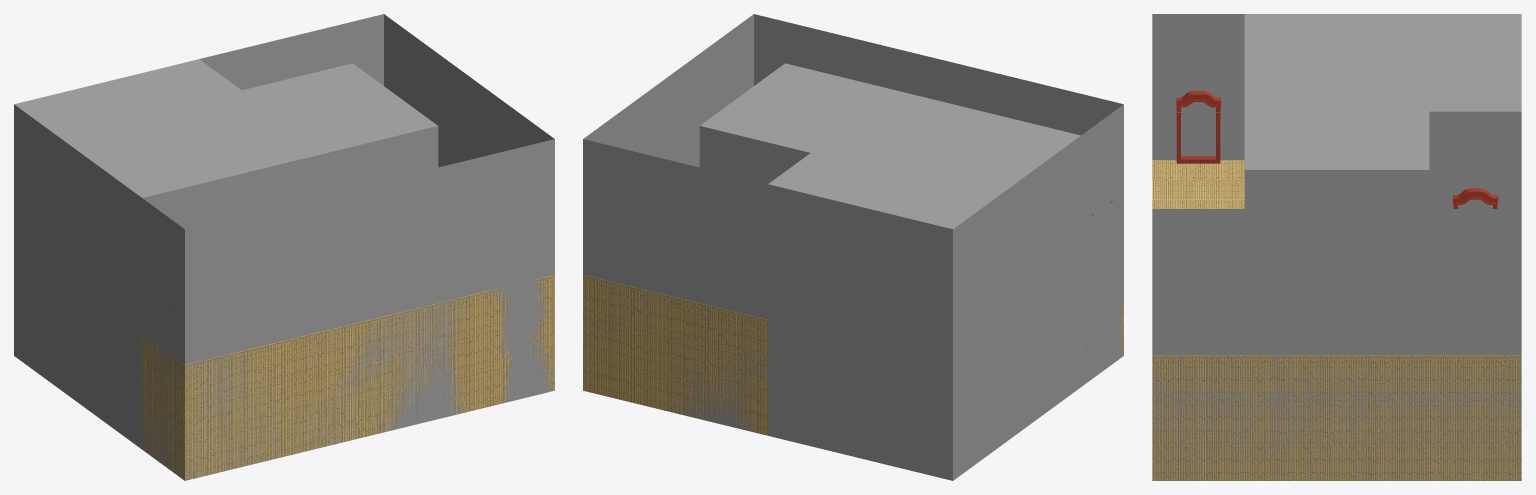
The model's file is Floor_1.5_02.fbx.
The picture shows the model from 3 angles, left to right: view 1: azimuth 30°, elevation 25°; view 2: azimuth 150°, elevation 25°; view 3: azimuth 270°, elevation 25°; orthographic projection. The views are drawn at different scales.
Visible parts, largest first — view 1: pCube12, Wall_03, Wall_02, polySurface92, polySurface90, polySurface91, polySurface98, polySurface95, polySurface96, polySurface88, polySurface97, polySurface94 (+22 smaller); view 2: pCube12, Wall_02, Wall_03, polySurface192, polySurface193, polySurface195, polySurface251, polySurface260, polySurface191, polySurface196, Platform_02, polySurface261 (+6 smaller); view 3: pCube12, Wall_03, Wall_02, polySurface200, polySurface191, polySurface182, polySurface218, polySurface220, polySurface209, polySurface245, polySurface219, polySurface192 (+23 smaller).
Boxes of the visible parts, <box> form: pCube12: <box>14,14,554,480</box>; Wall_03: <box>56,63,438,448</box>; Wall_02: <box>14,59,241,385</box>; polySurface92: <box>163,388,221,441</box>; polySurface90: <box>163,349,221,403</box>; polySurface91: <box>163,427,221,480</box>; polySurface98: <box>259,376,295,423</box>; polySurface95: <box>296,329,332,376</box>; polySurface96: <box>259,338,295,385</box>; polySurface88: <box>222,385,258,432</box>; polySurface97: <box>259,415,295,462</box>; polySurface94: <box>296,367,332,414</box>; pCube12: <box>583,14,1123,480</box>; Wall_02: <box>768,153,995,480</box>; Wall_03: <box>699,63,1081,448</box>; polySurface192: <box>583,313,619,360</box>; polySurface193: <box>583,274,619,322</box>; polySurface195: <box>620,361,656,408</box>; polySurface251: <box>694,301,730,349</box>; polySurface260: <box>657,331,693,378</box>; polySurface191: <box>583,352,619,399</box>; polySurface196: <box>620,322,656,369</box>; Platform_02: <box>731,310,767,357</box>; polySurface261: <box>657,292,693,340</box>; pCube12: <box>1152,14,1521,480</box>; Wall_03: <box>1244,14,1429,208</box>; Wall_02: <box>1429,14,1521,208</box>; polySurface200: <box>1152,439,1198,480</box>; polySurface191: <box>1475,439,1521,480</box>; polySurface182: <box>1429,439,1475,480</box>; polySurface218: <box>1244,439,1290,480</box>; polySurface220: <box>1244,355,1290,397</box>; polySurface209: <box>1198,439,1244,480</box>; polySurface245: <box>1383,439,1429,480</box>; polySurface219: <box>1244,397,1290,438</box>; polySurface192: <box>1475,397,1521,438</box>.
Size of the model in its own units: 20 by 13 by 16.
